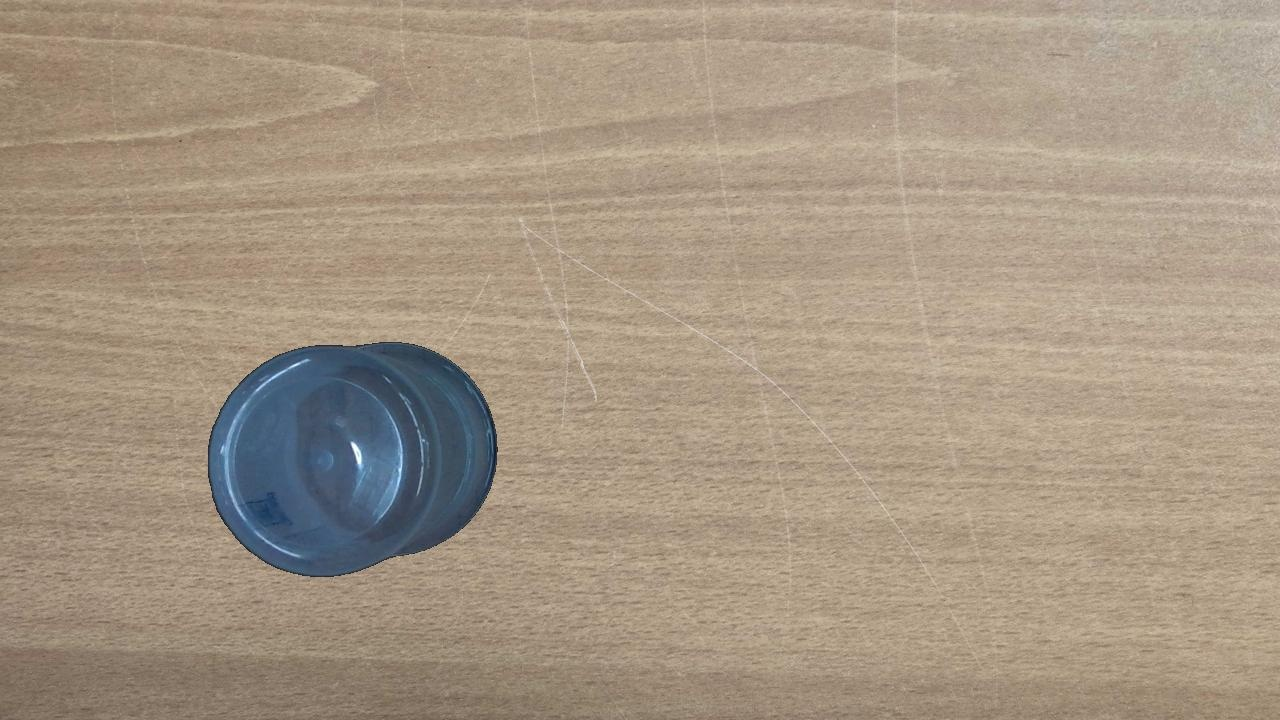cup: (207, 341, 499, 577)
